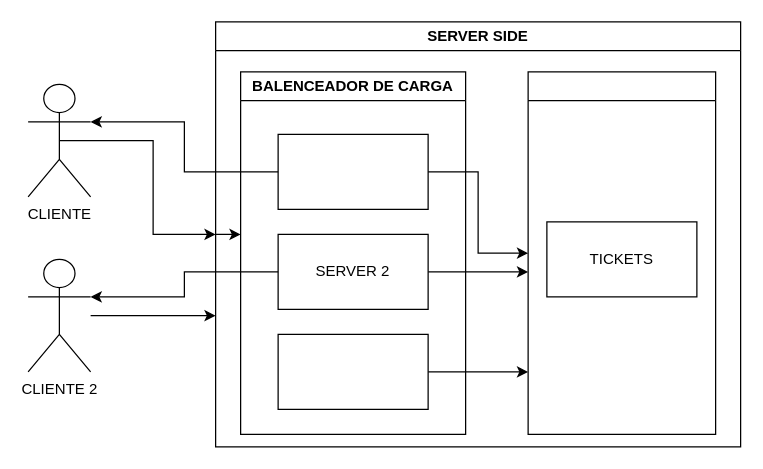
The diagram is 763 pixels wide and 469 high, and some of its shapes have lost their labels. Each missing label, with the box of its shape:
BANCO DE DADOS: (527, 71, 716, 434)
SERVER 1: (277, 133, 428, 209)
SERVER 3: (277, 333, 428, 409)
